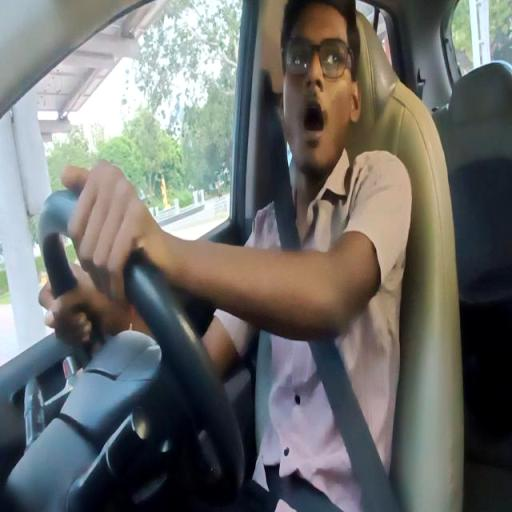yawns: (269, 0, 369, 172)
